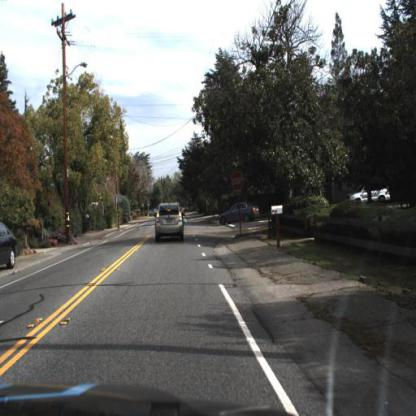car: (346, 180, 395, 206), (157, 198, 185, 242), (351, 180, 393, 208), (220, 202, 257, 229)
